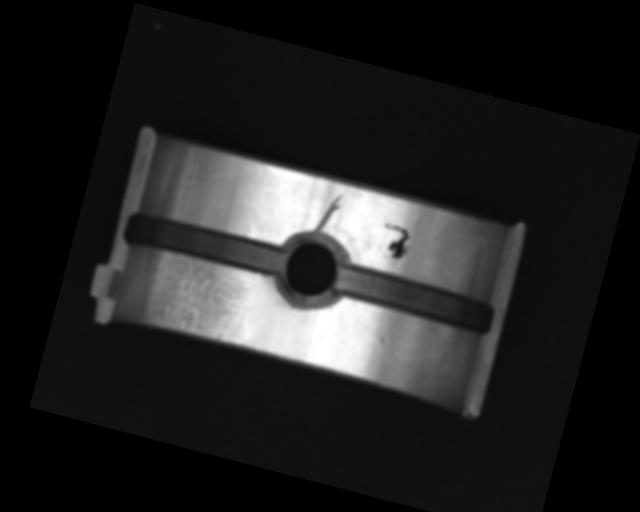blot: (375, 222, 414, 262)
bruise: (377, 333, 390, 345)
gap: (328, 257, 498, 341), (121, 206, 285, 282)
hole: (268, 226, 357, 316)
nick: (313, 188, 345, 238), (245, 220, 263, 241)
scratch: (134, 247, 262, 348)
